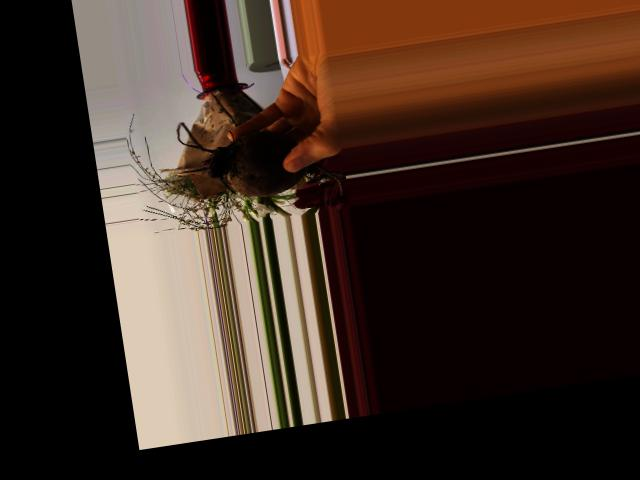beet: (174, 100, 342, 217)
